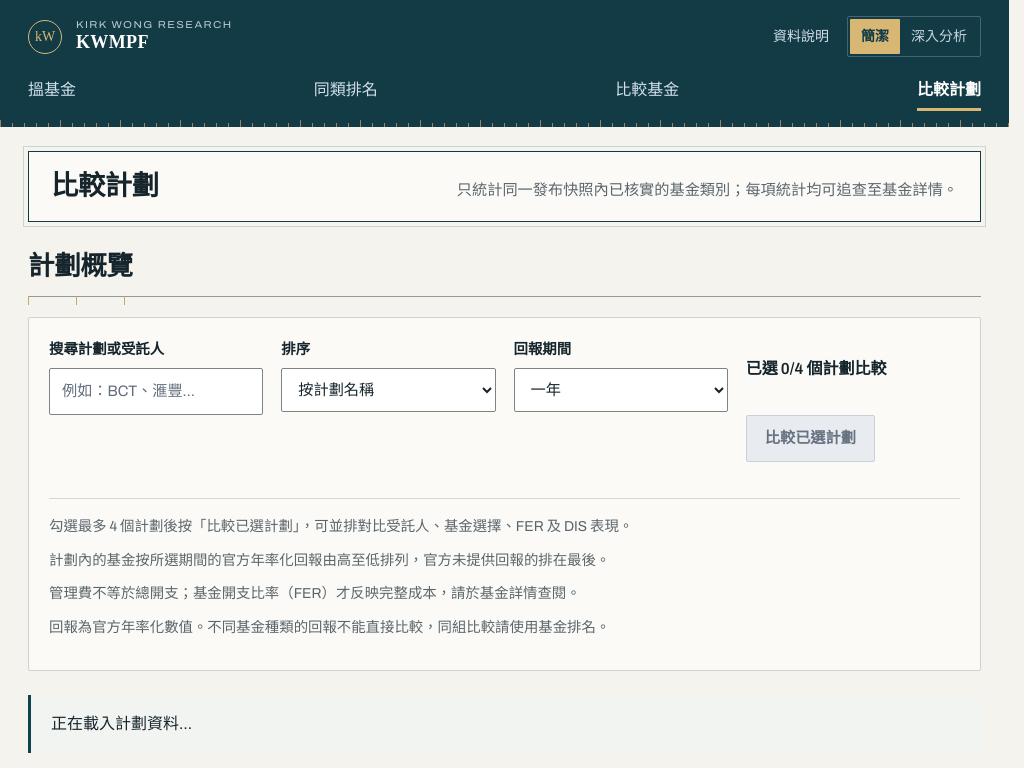
Test: scheme fund returns › switches every fund to the selected return horizon
Select "十年" in the dropdown labelled "回報期間" at [621, 390], box top-left (514, 368), bottom-right (728, 412)
(page scrolled)
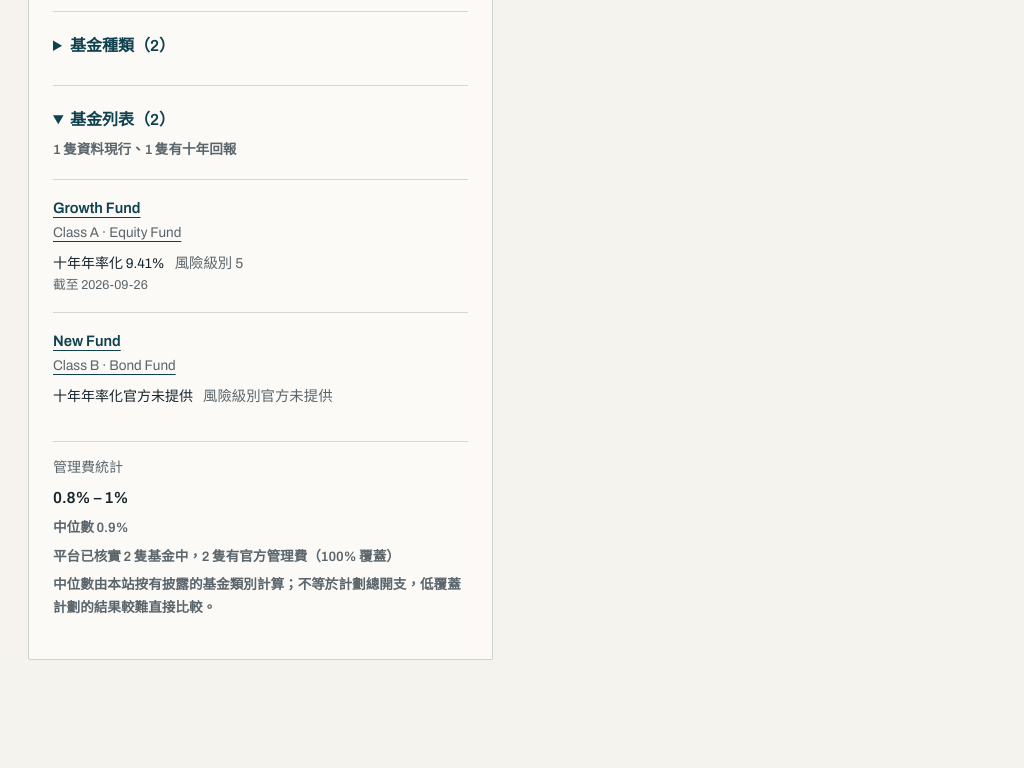
Expected: the text "十年年率化 9.41%" is shown, top-left (53, 252), bottom-right (165, 296)
Expected: the text "十年年率化官方未提供" is shown, top-left (53, 385), bottom-right (193, 409)
